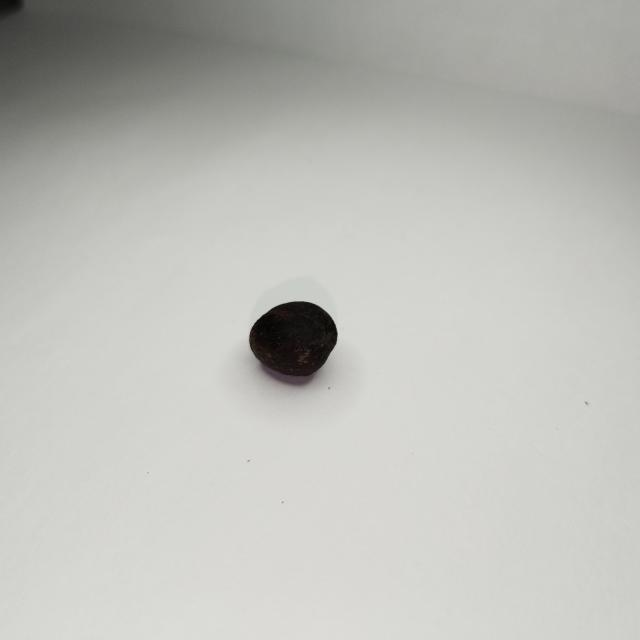Danado: (249, 301, 338, 380)
